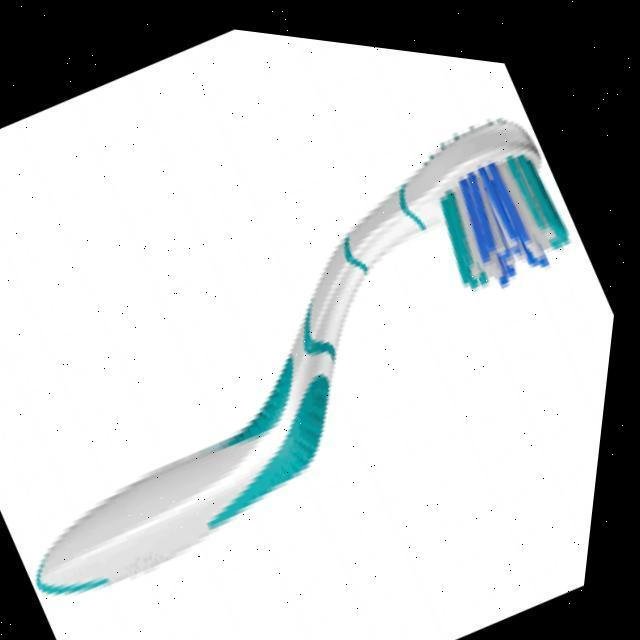toothbrush: (44, 113, 572, 603)
